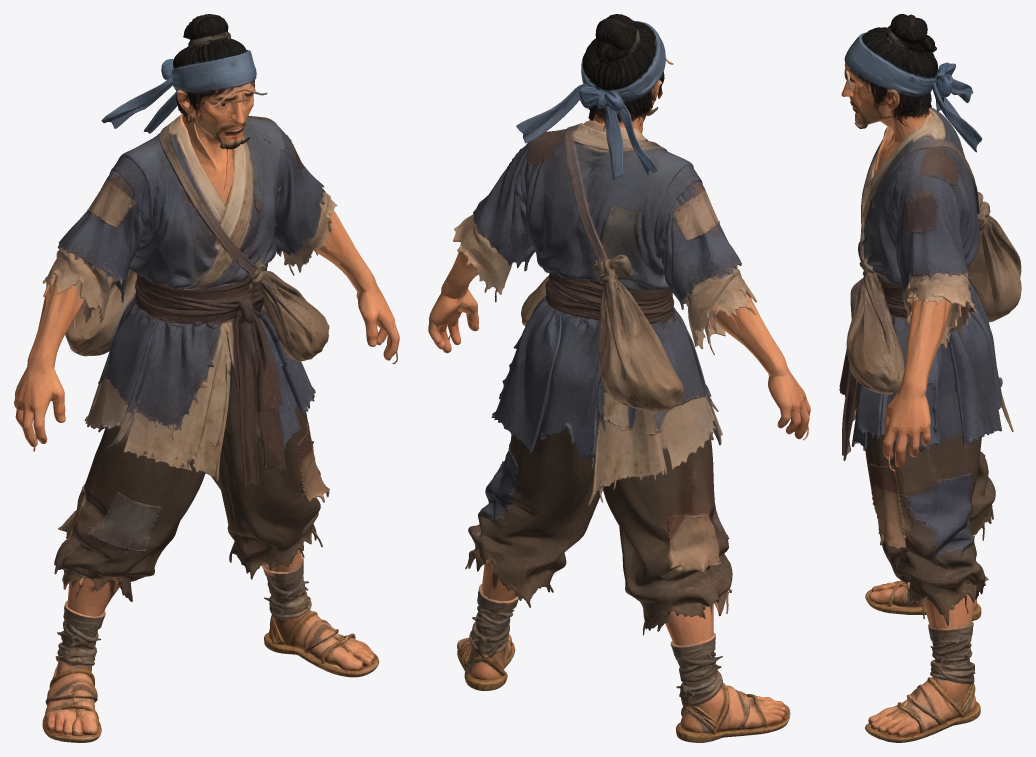
The model's file is glb.glb.
The picture shows the model from 3 angles, left to right: view 1: azimuth 30°, elevation 25°; view 2: azimuth 150°, elevation 25°; view 3: azimuth 270°, elevation 25°; orthographic projection. The views are drawn at different scales.
Size of the model in its own units: 1.1 by 1.9 by 0.4804.
1 material, 1 textured.
